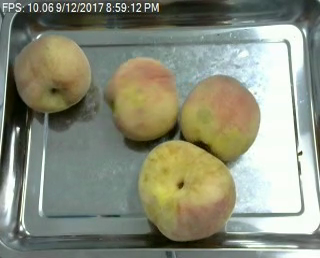Peach: (138, 140, 236, 241), (180, 74, 260, 161), (104, 55, 180, 140), (13, 32, 92, 112)
